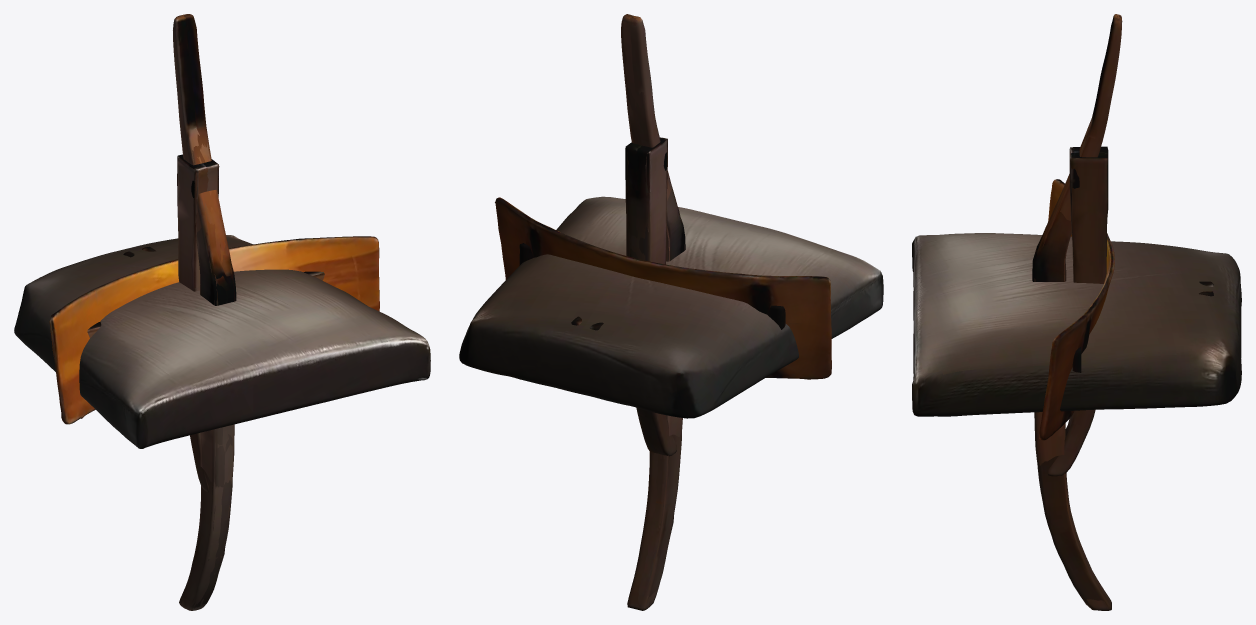
3 renders of one model, left to right at view 1: azimuth 30°, elevation 25°; view 2: azimuth 150°, elevation 25°; view 3: azimuth 270°, elevation 25°, orthographic.
Visible parts, largest first — view 1: root.0, root.1, root.2, root.3, root.5, root.4; view 2: root.0, root.1, root.2, root.3, root.5, root.4; view 3: root.0, root.3, root.4, root.2, root.1, root.5.
Part boxes in pixels (x1,y1,x2,y2): root.0: (14,235,430,448); root.1: (49,236,379,424); root.2: (178,14,235,610); root.3: (173,14,236,610); root.5: (177,156,218,492); root.4: (177,154,219,224); root.0: (459,196,883,418); root.1: (495,197,831,379); root.2: (621,14,685,610); root.3: (623,16,684,610); root.5: (625,138,676,456); root.4: (625,137,667,453); root.0: (912,233,1241,416); root.3: (1032,14,1122,609); root.4: (1047,146,1108,476); root.2: (1032,15,1121,610); root.1: (1039,179,1114,440); root.5: (1065,147,1108,431).
Bounding box in the file's own units: 14892 × 25275 × 12796.
1 material, 1 textured.
